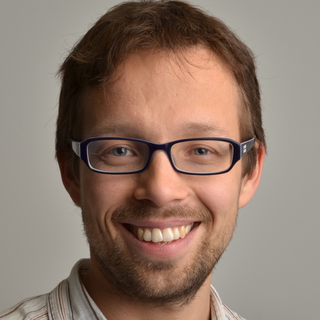eye: (175, 140, 222, 165), (96, 141, 142, 166)
